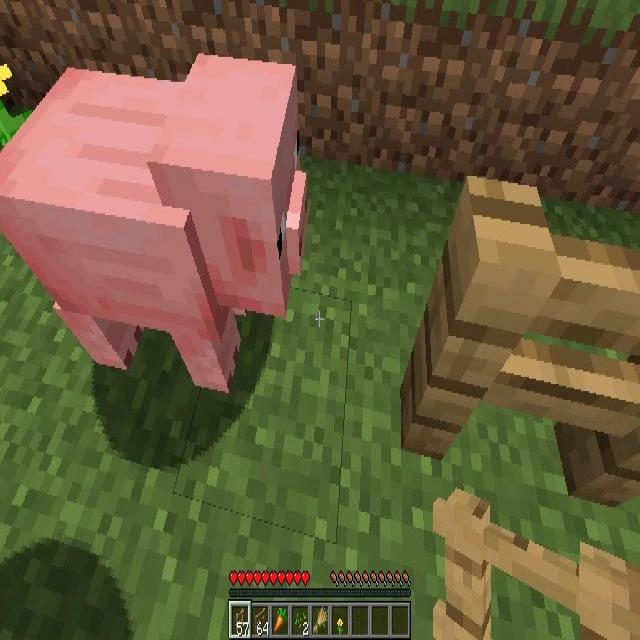pig: (0, 61, 306, 394)
